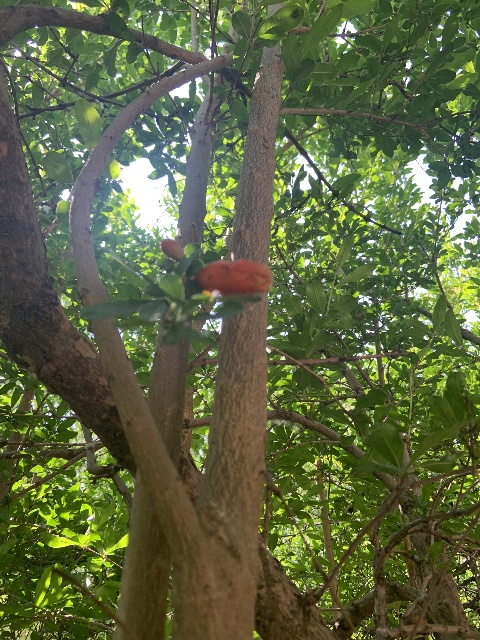bud: (195, 257, 272, 296), (160, 238, 184, 260)
